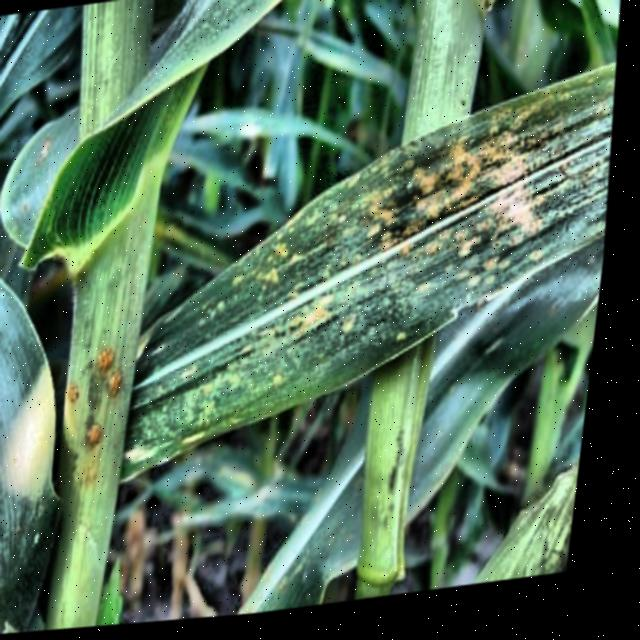common_rust: (142, 61, 611, 476)
